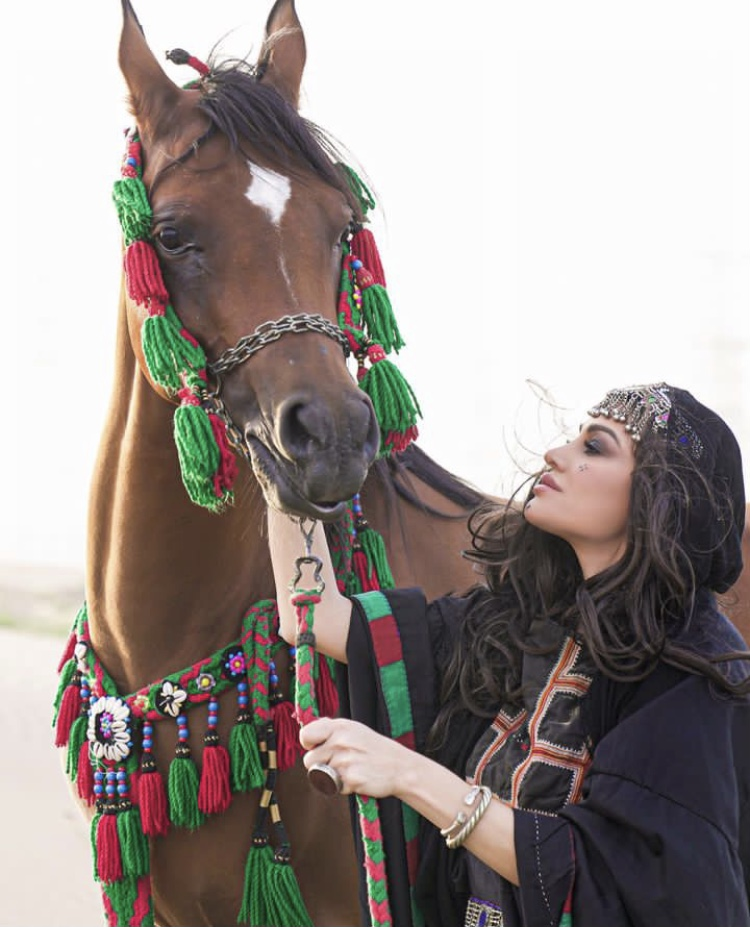Saudi_Founding_Day: (259, 380, 750, 927)
